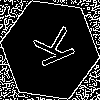K: (25, 25, 76, 73)
